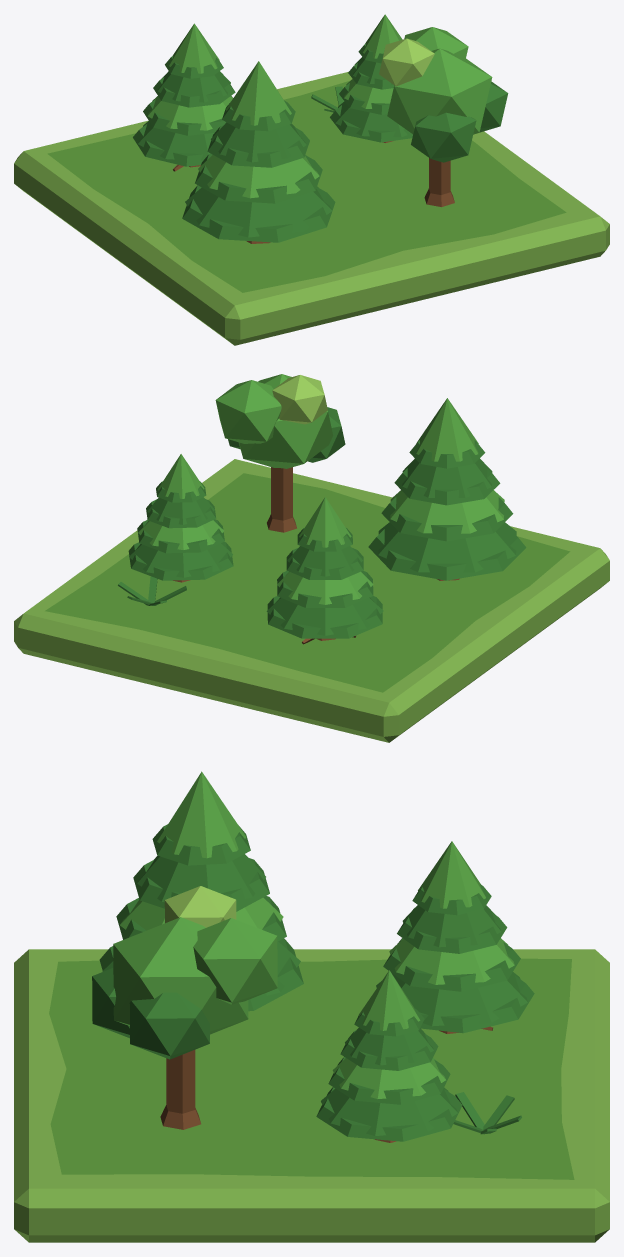
The model's file is tile_forest.fbx.
3 renders of one model, top to bottom at view 1: azimuth 30°, elevation 25°; view 2: azimuth 150°, elevation 25°; view 3: azimuth 270°, elevation 25°, orthographic. The views are drawn at different scales.
Visible parts, largest first — view 1: tile_forest; view 2: tile_forest; view 3: tile_forest.
Part boxes in pixels (box(x1,y1,x2,y2)): tile_forest: box(14, 14, 609, 345); tile_forest: box(14, 374, 609, 742); tile_forest: box(14, 771, 609, 1242).
Bounding box in the file's own units: 1 × 0.5368 × 1.
